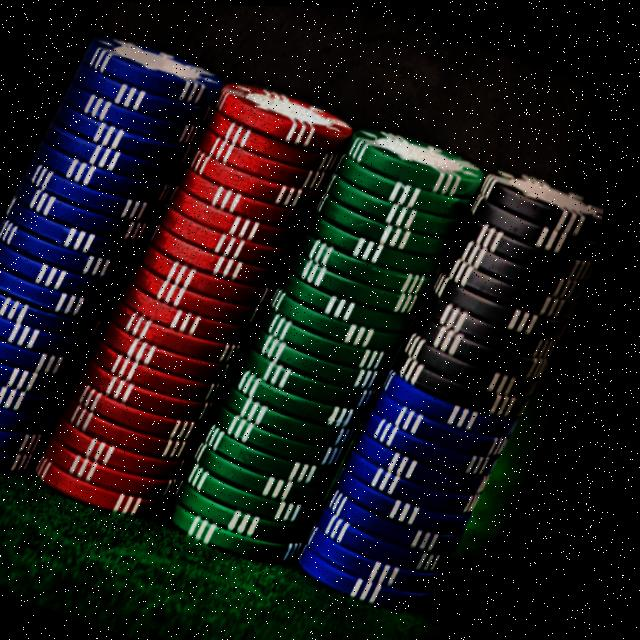Chip: (26, 55, 380, 547), (162, 104, 508, 590), (298, 156, 618, 625), (0, 14, 244, 484)
